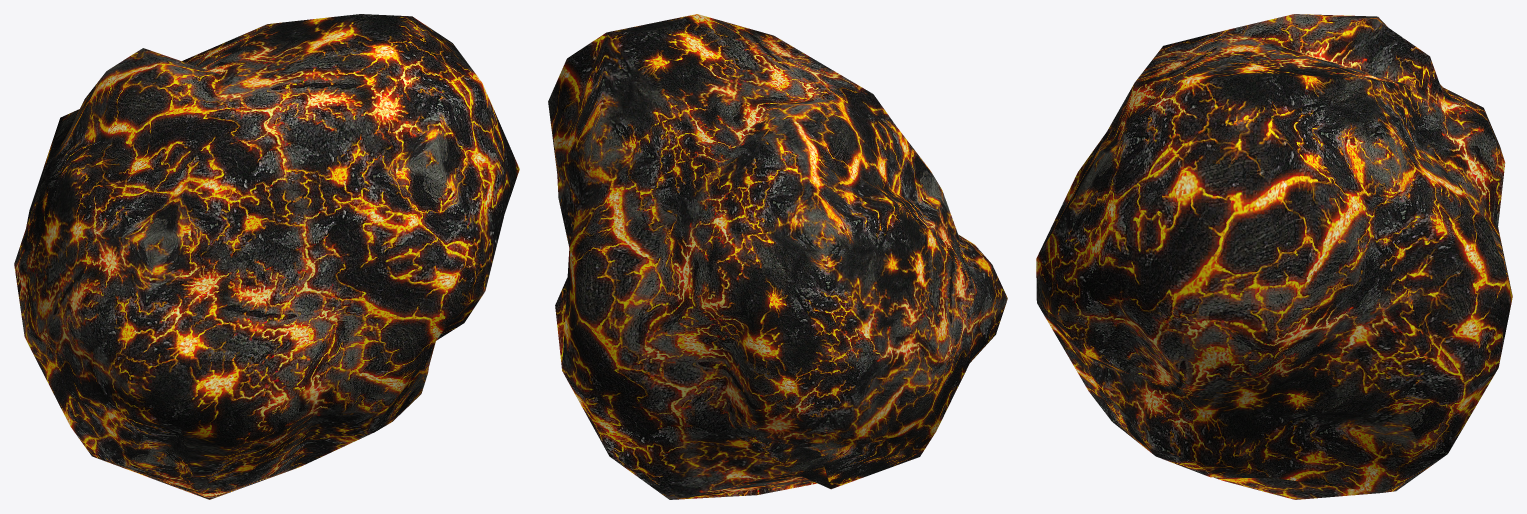
File: asteroid_moltenrock_medium_s02_l1.fbx
3 renders of one model, left to right at view 1: azimuth 30°, elevation 25°; view 2: azimuth 150°, elevation 25°; view 3: azimuth 270°, elevation 25°, orthographic. The views are drawn at different scales.
Visible parts, largest first — view 1: mesh_node; view 2: mesh_node; view 3: mesh_node.
Boxes of the visible parts, bbox=[...] form: mesh_node: bbox=[14, 14, 519, 499]; mesh_node: bbox=[548, 14, 1007, 499]; mesh_node: bbox=[1036, 14, 1512, 499].
Bounding box in the file's own units: 75.3 × 73.76 × 67.71.
